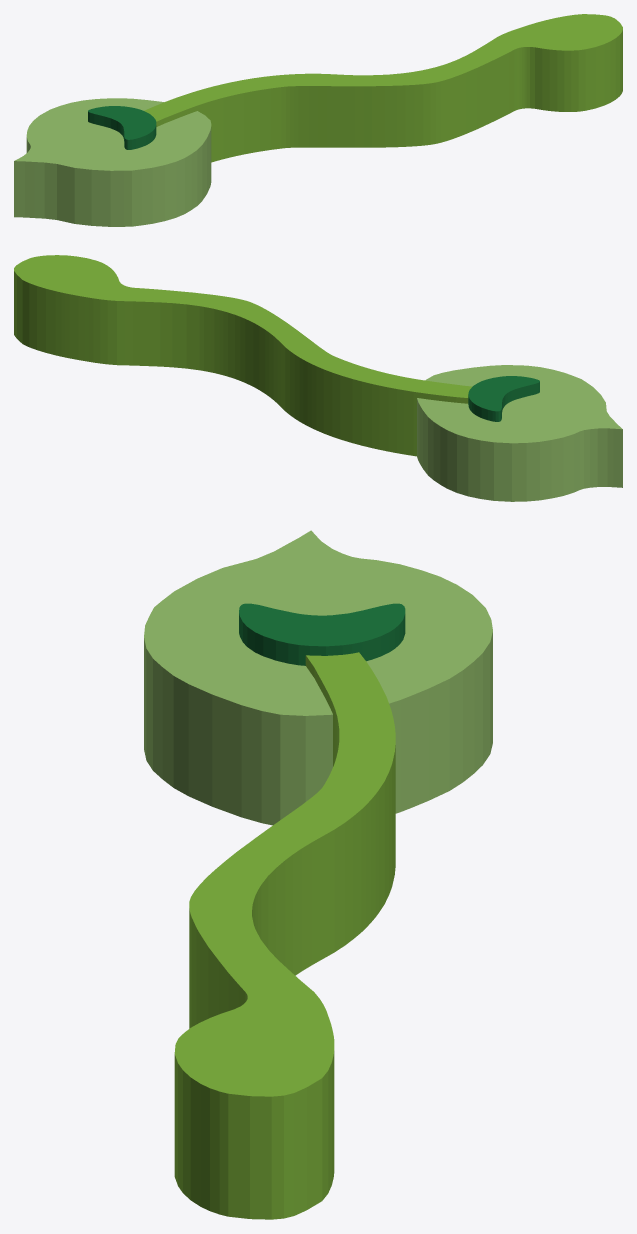
Rendered from stream_unlock_gate.fbx.
3 views of the same model, one above another, from view 1: azimuth 30°, elevation 25°; view 2: azimuth 150°, elevation 25°; view 3: azimuth 270°, elevation 25° (orthographic). The views are drawn at different scales.
Parts seen in each view (by area): view 1: stream_gate_door, stream_gate_base, stream_gate_pivot; view 2: stream_gate_door, stream_gate_base, stream_gate_pivot; view 3: stream_gate_door, stream_gate_base, stream_gate_pivot.
Boxes of the visible parts, bbox=[...] form: stream_gate_door: bbox=[144, 14, 622, 162]; stream_gate_base: bbox=[14, 98, 211, 226]; stream_gate_pivot: bbox=[88, 106, 156, 149]; stream_gate_door: bbox=[14, 255, 471, 456]; stream_gate_base: bbox=[417, 365, 622, 501]; stream_gate_pivot: bbox=[468, 376, 539, 421]; stream_gate_door: bbox=[174, 652, 395, 1219]; stream_gate_base: bbox=[144, 530, 492, 825]; stream_gate_pivot: bbox=[239, 603, 405, 665].
Bounding box in the file's own units: 39.37 × 4.22 × 10.07.
